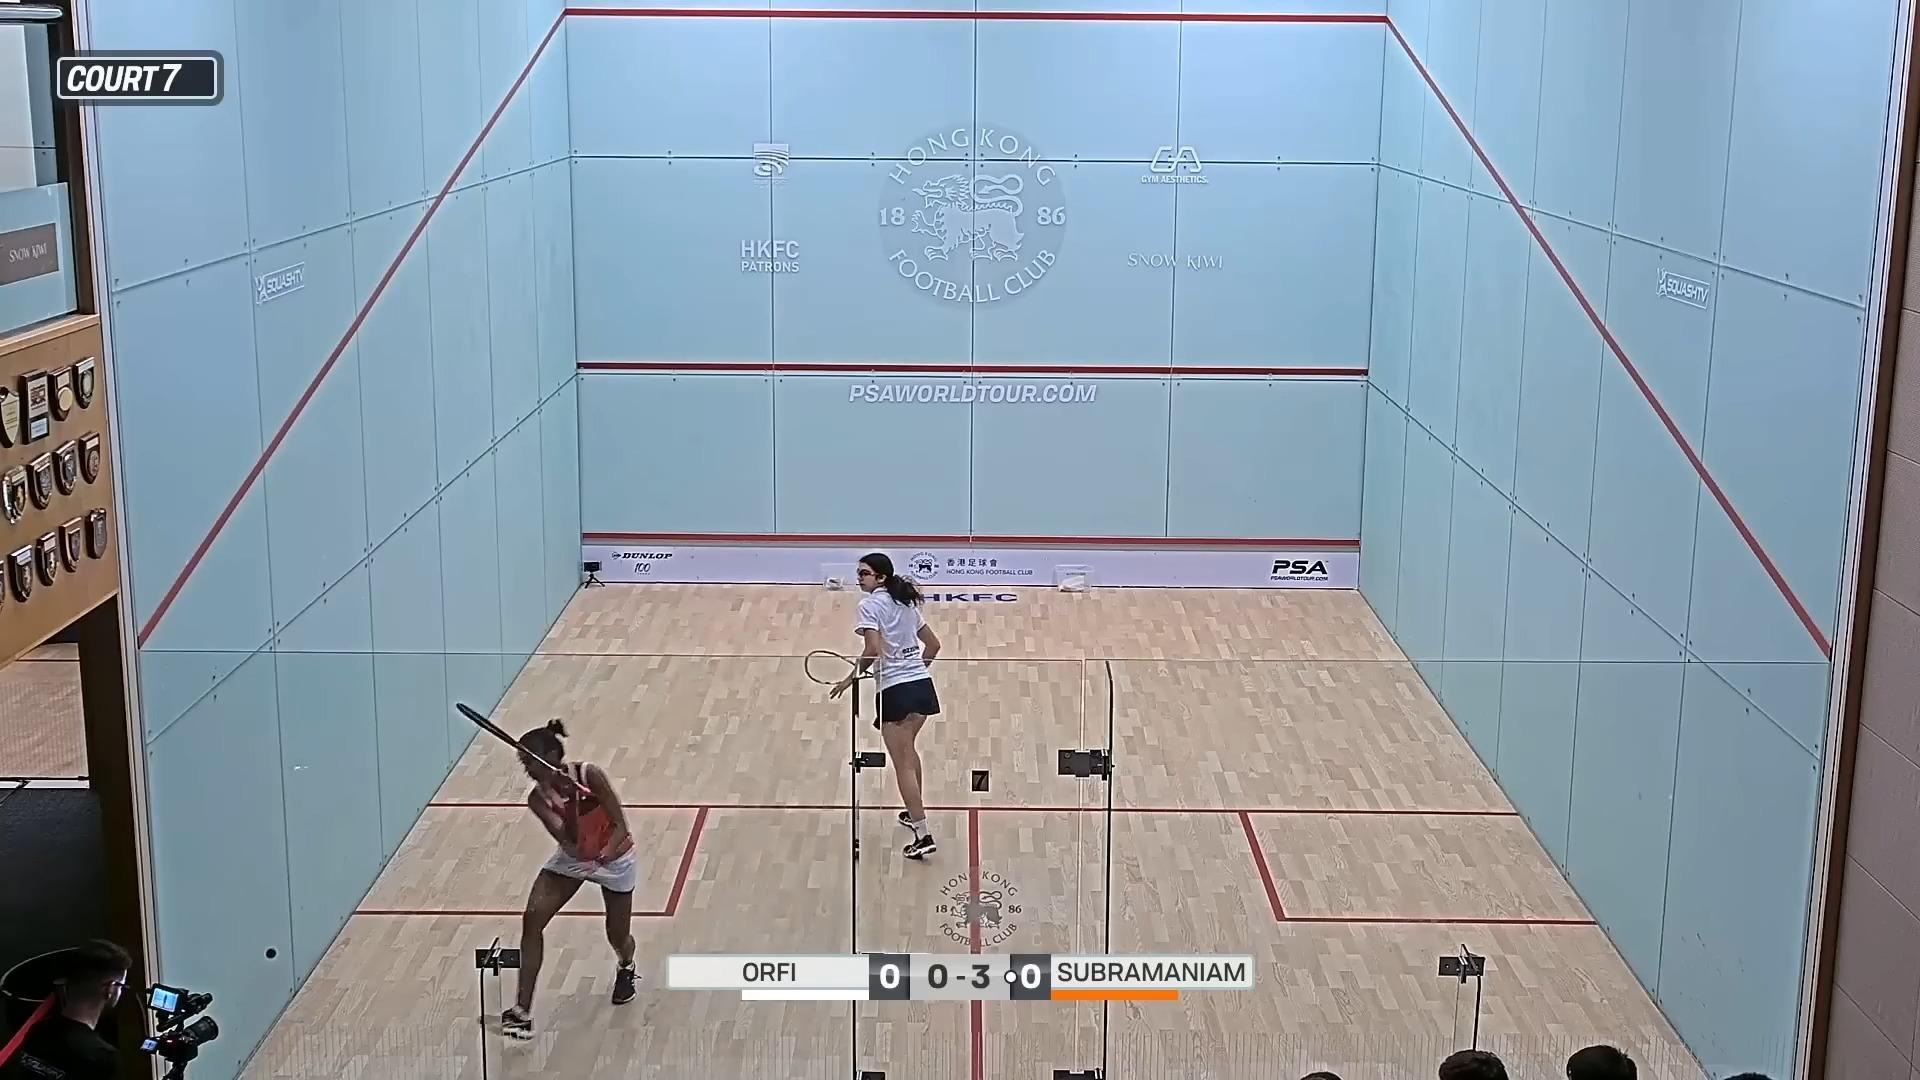Squash-Ball: (257, 934, 284, 975)
